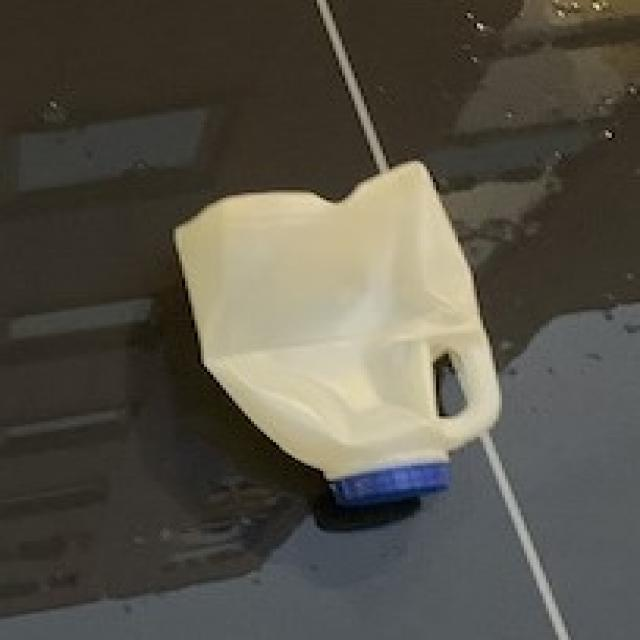HDPE Plastic: (168, 156, 508, 516)
